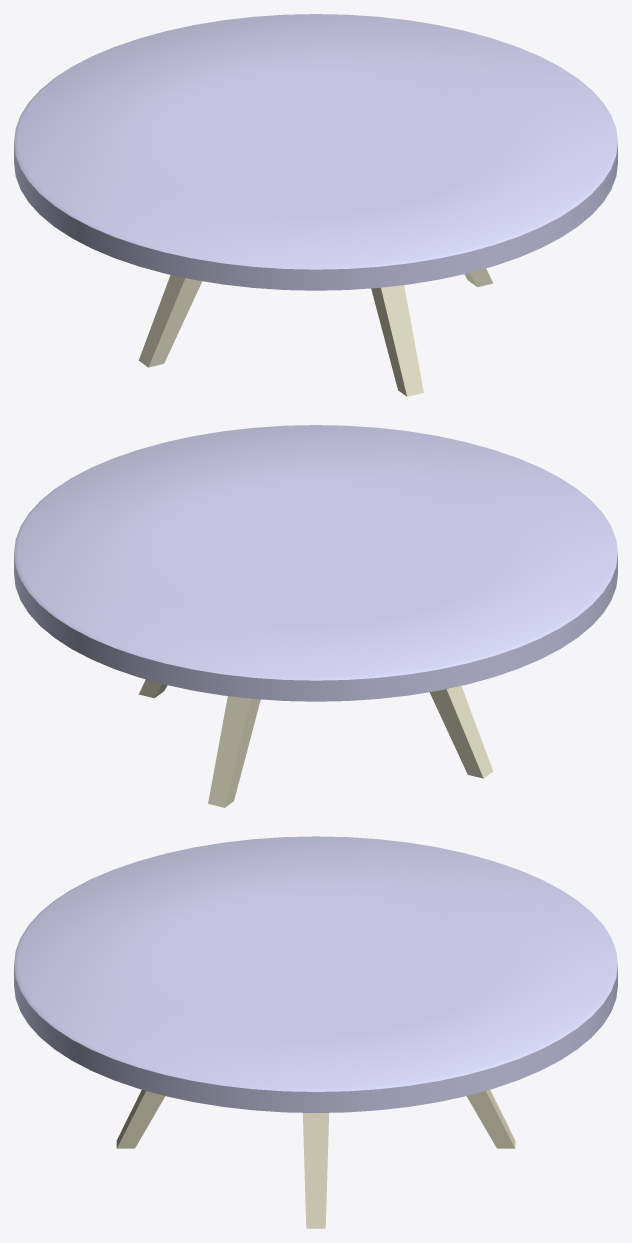
Rendered from table_purple.glb.
The picture shows the model from 3 angles, top to bottom: view 1: azimuth 30°, elevation 25°; view 2: azimuth 150°, elevation 25°; view 3: azimuth 270°, elevation 25°; orthographic projection.
Visible parts, largest first — view 1: Cylinder002, Object002, Object001; view 2: Cylinder002, Object004, Object001; view 3: Cylinder002, Object003, Object002, Object004.
Boxes of the visible parts, <box> form: Cylinder002: <box>14,14,617,290</box>; Object002: <box>371,285,423,396</box>; Object001: <box>138,275,201,367</box>; Cylinder002: <box>14,425,617,701</box>; Object004: <box>208,696,260,807</box>; Object001: <box>430,686,493,778</box>; Cylinder002: <box>14,836,617,1112</box>; Object003: <box>302,1113,329,1228</box>; Object002: <box>116,1090,165,1148</box>; Object004: <box>466,1090,515,1148</box>.
Bounding box in the file's own units: 0.1193 × 0.0397 × 0.1193.
1 material, 1 textured.
